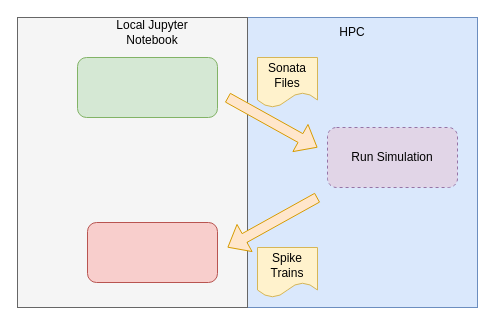
Some shapes in this 495 by 325 pixel diagram are drawn without their labels. The centre of each missing label's shape, as x and y in pixels:
"Analysis Simulation Output" goes at point 152,252.
"Build and Validate Network" goes at point 147,87.
